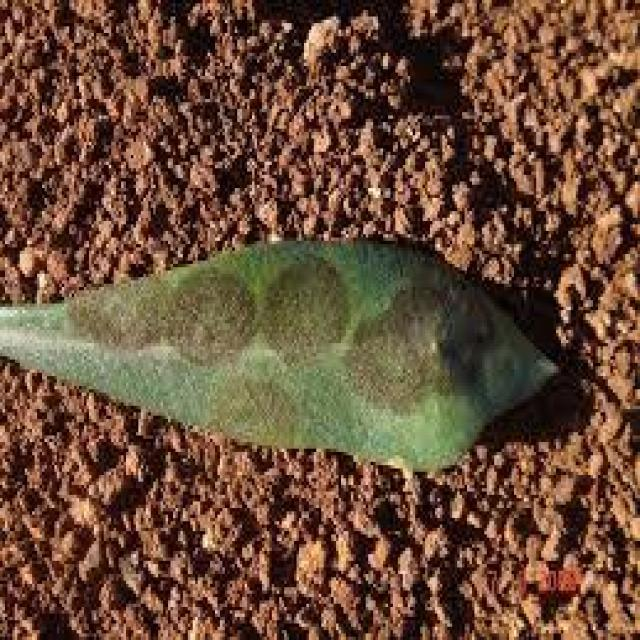Peacock Eye: (0, 244, 556, 468)
